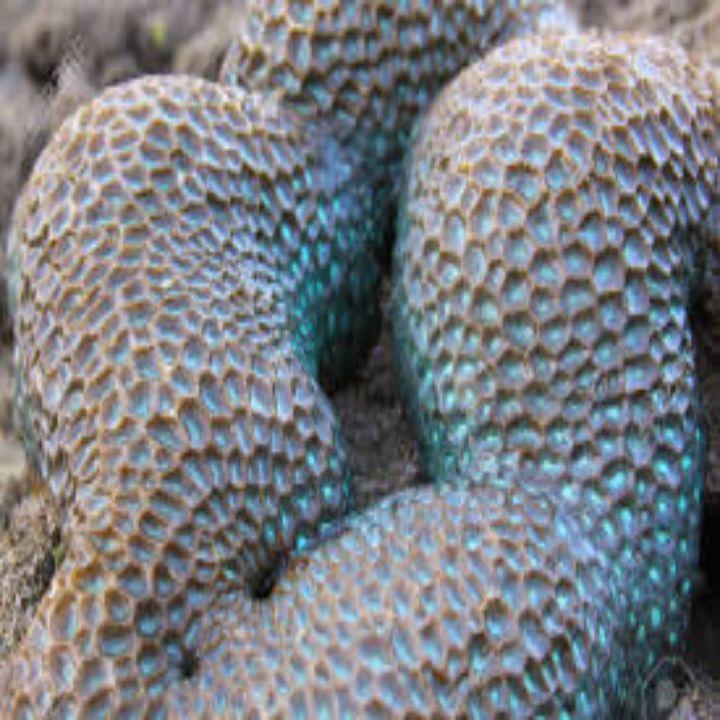Healthy Coral: (16, 52, 689, 695)
